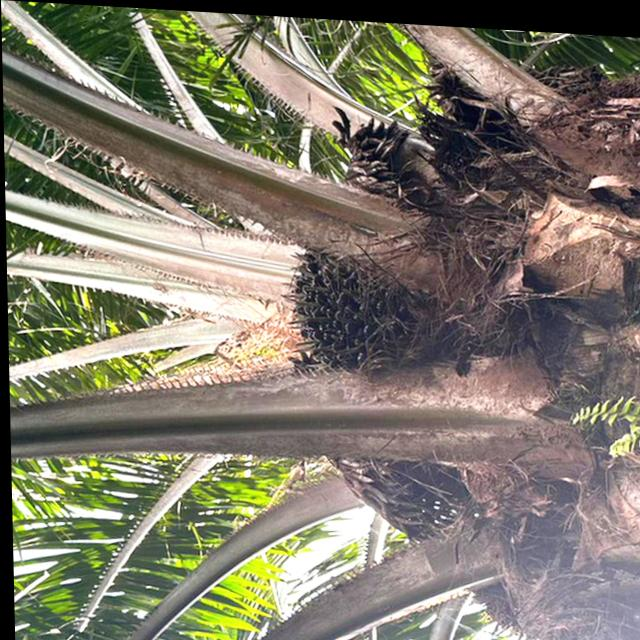unripe: (268, 224, 459, 395)
